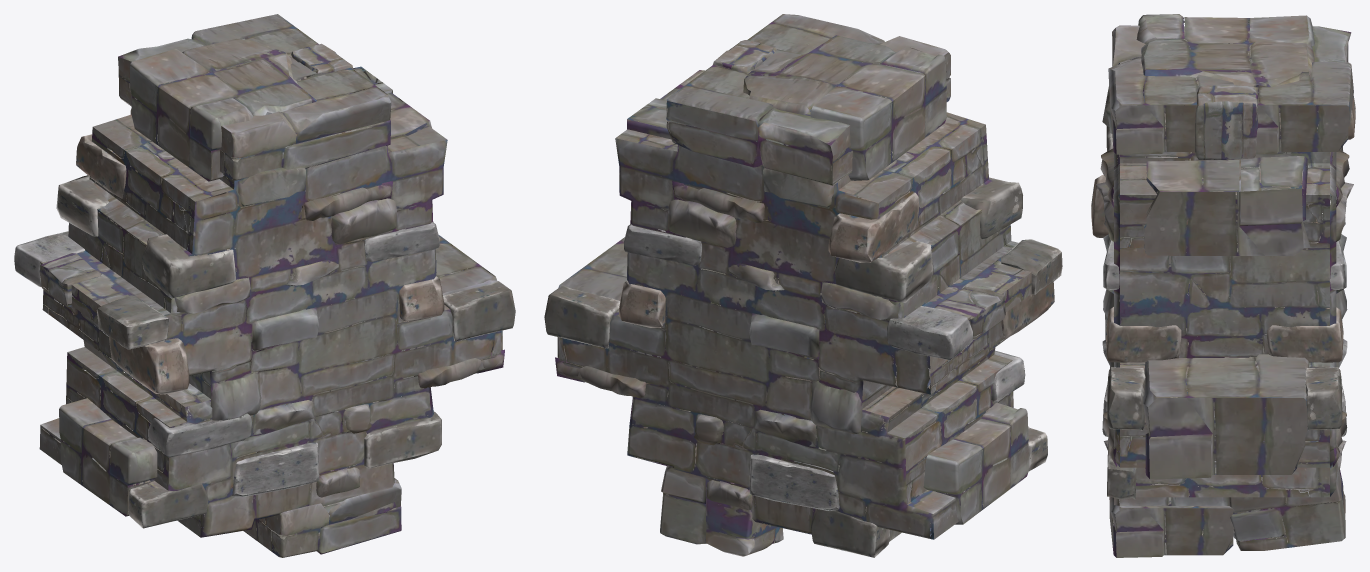
3 views of the same model, side by side, from view 1: azimuth 30°, elevation 25°; view 2: azimuth 150°, elevation 25°; view 3: azimuth 270°, elevation 25° (orthographic). The views are drawn at different scales.
Visible parts, largest first — view 1: SM_Castle_Wall_Ruin_02_LOD0; view 2: SM_Castle_Wall_Ruin_02_LOD0; view 3: SM_Castle_Wall_Ruin_02_LOD0.
Boxes of the visible parts, x1=… form: SM_Castle_Wall_Ruin_02_LOD0: x1=14, y1=14, x2=515, y2=557; SM_Castle_Wall_Ruin_02_LOD0: x1=544, y1=14, x2=1062, y2=557; SM_Castle_Wall_Ruin_02_LOD0: x1=1091, y1=14, x2=1355, y2=557.
Size of the model in its own units: 4.2 by 4.56 by 2.38.
2 materials, 2 textured.
